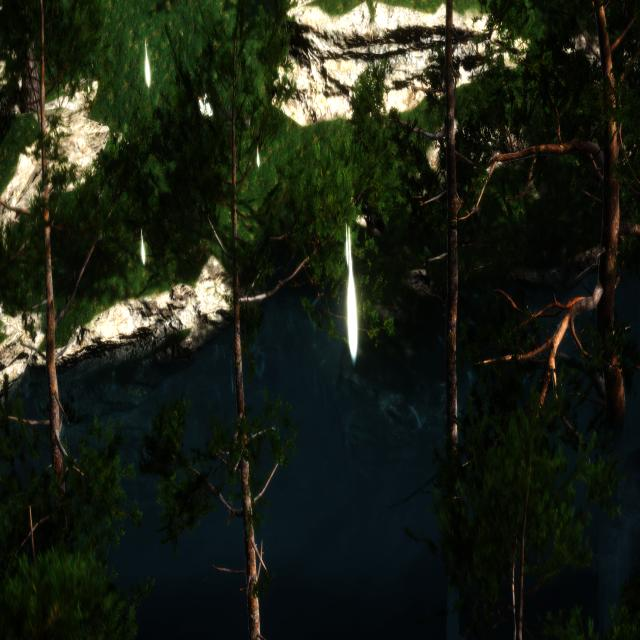Human: (191, 76, 251, 151)
